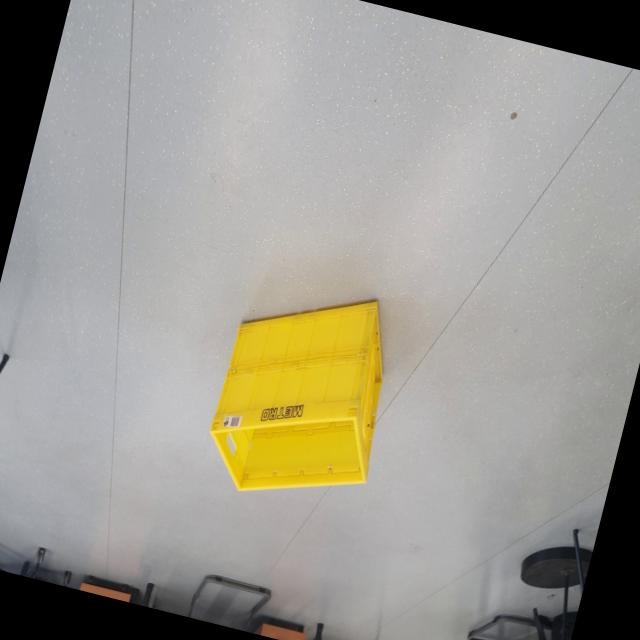box: (182, 249, 424, 528)
